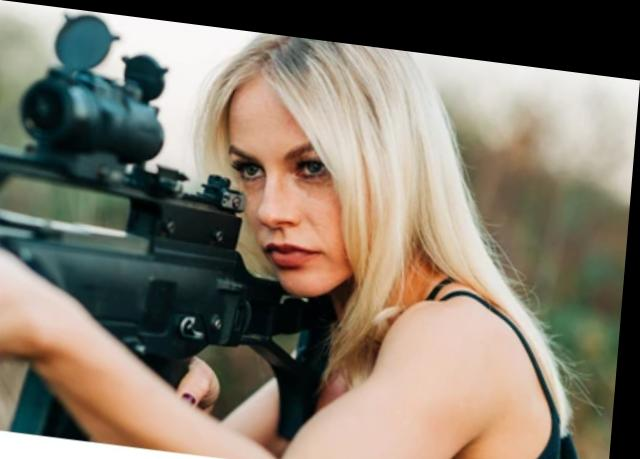other: (99, 21, 575, 458)
